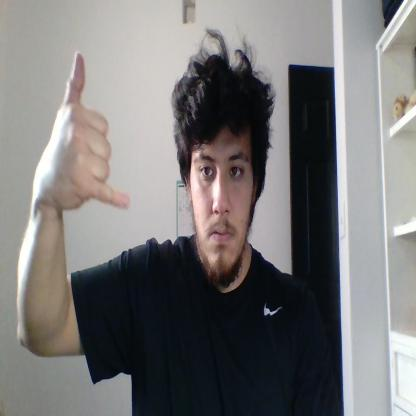Y: (50, 53, 130, 212)
